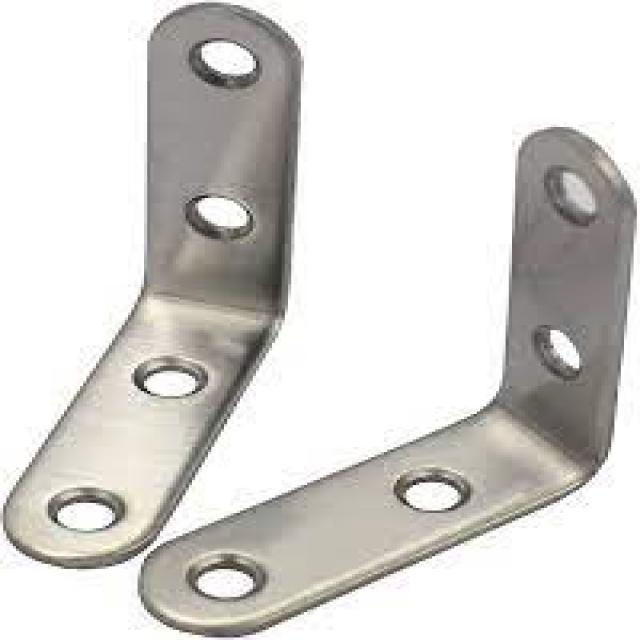holes: (541, 159, 606, 230), (531, 317, 590, 383), (45, 485, 125, 533), (390, 465, 467, 513), (186, 36, 259, 86), (186, 551, 262, 599), (182, 190, 253, 239), (131, 356, 208, 399)
